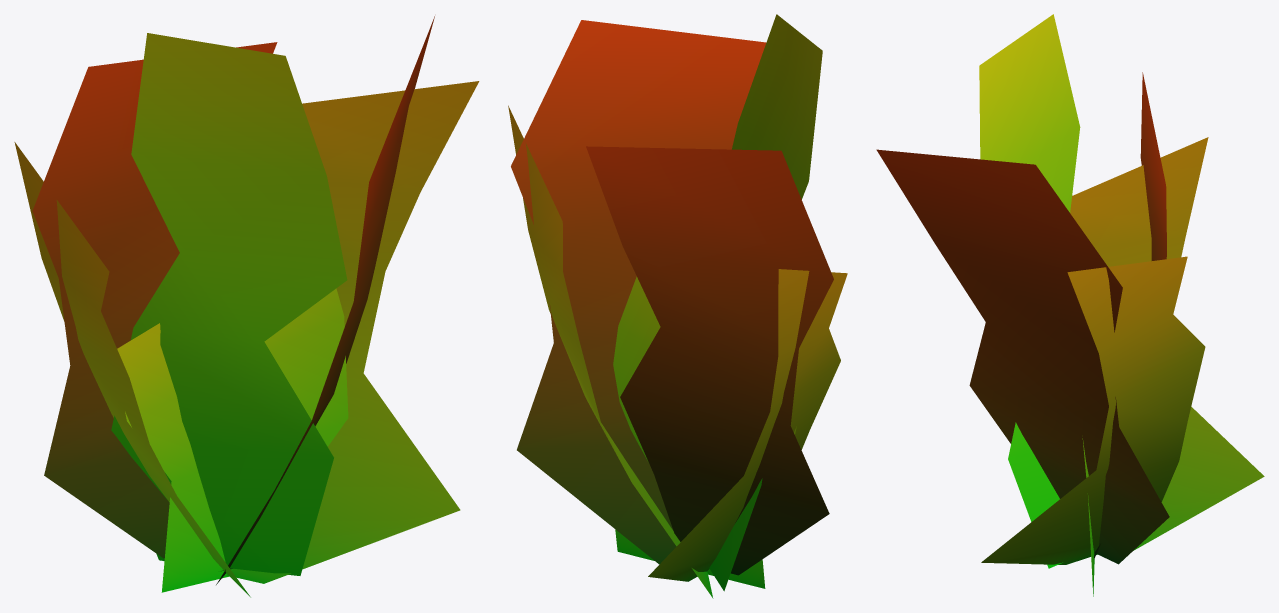
Rendered from Var8Hi20.fbx.
The picture shows the model from 3 angles, left to right: view 1: azimuth 30°, elevation 25°; view 2: azimuth 150°, elevation 25°; view 3: azimuth 270°, elevation 25°; orthographic projection. The views are drawn at different scales.
Parts seen in each view (by area): view 1: bend1; view 2: bend1; view 3: bend1.
Boxes of the visible parts, x1,y1,x2,y2 form: bend1: (14,16,479,597); bend1: (508,14,847,598); bend1: (876,14,1264,596).
Bounding box in the file's own units: 1.27 × 1.76 × 1.24.
